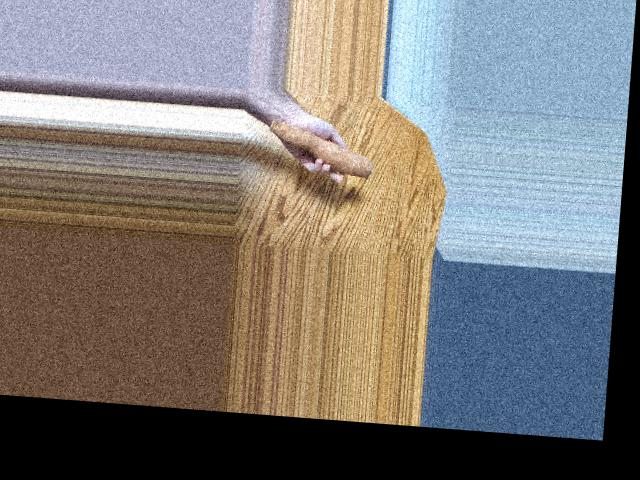sweet_potato: (263, 117, 376, 180)
